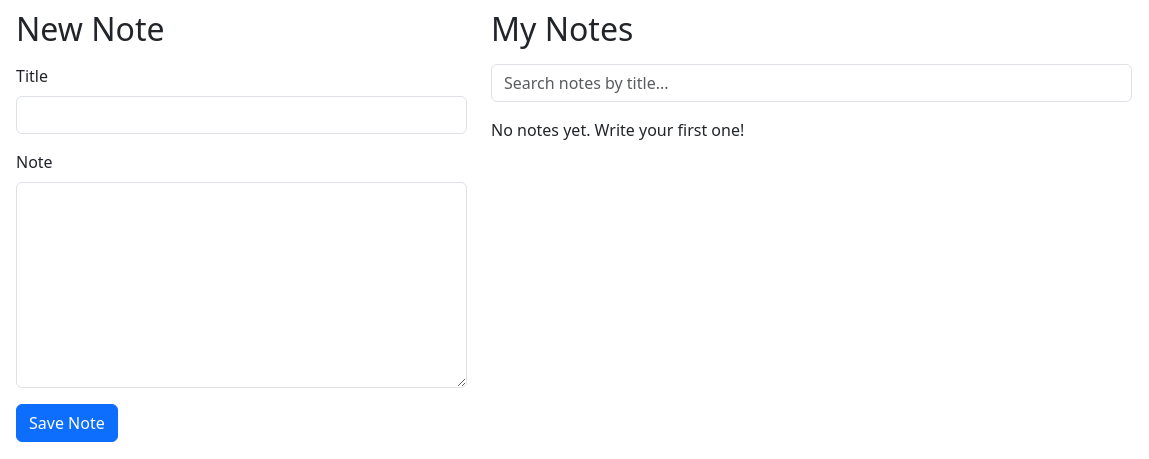
Test: cancel stops editing without changing the note
This screenshot has width=1149, height=459.
Type "Subnetting" into the field labelled "Title" at (242, 115), box [16,96,467,134]
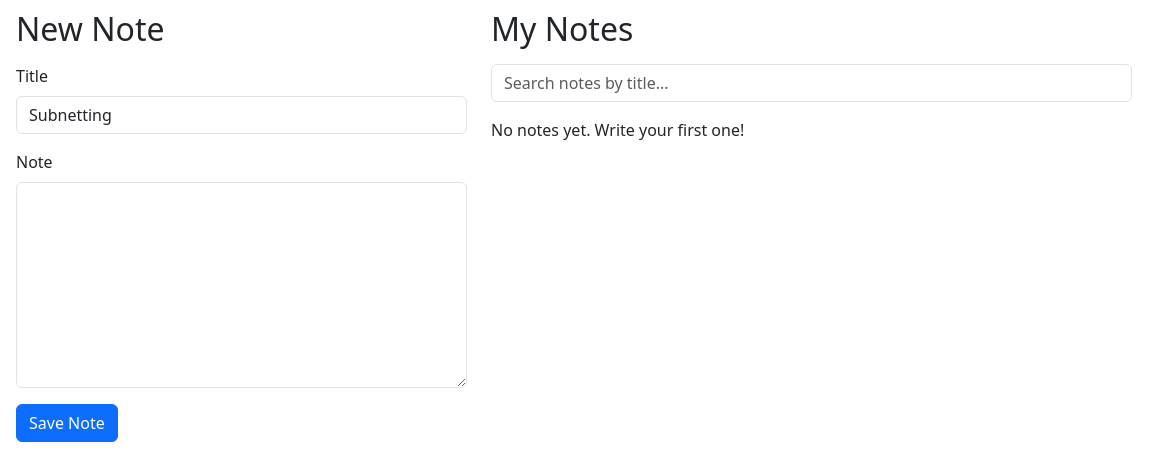
Type "A /24 network has 256 addresses" into the text box labelled "Note" at (242, 285), box [16,182,467,388]
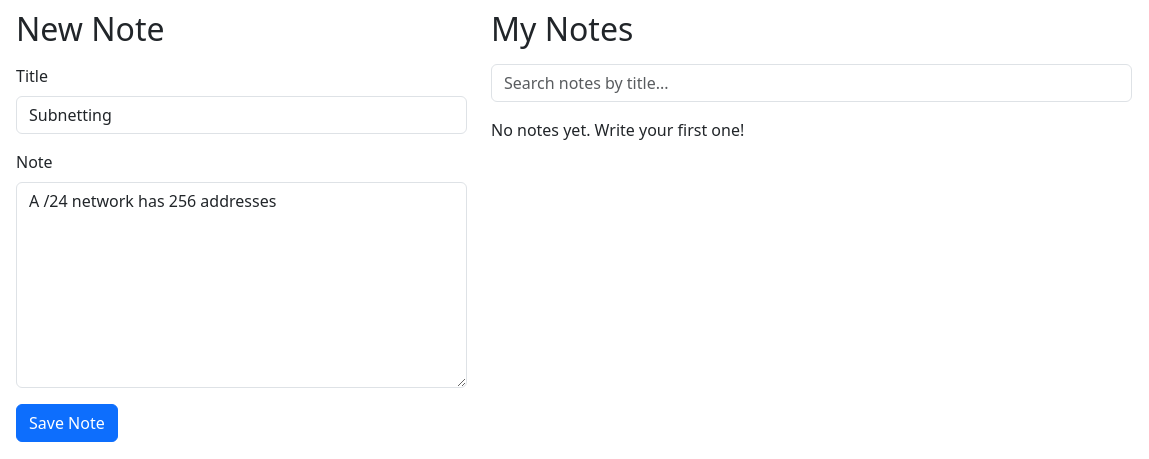
Click the button "Save Note" at (67, 423), box [16,404,118,442]
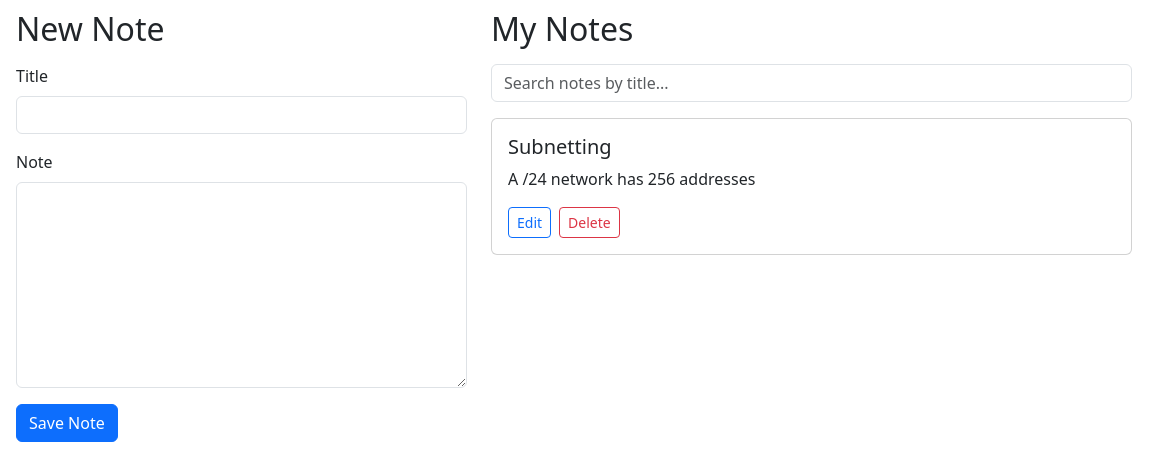
Click the button "Edit" at (530, 223), box [508,207,551,238]
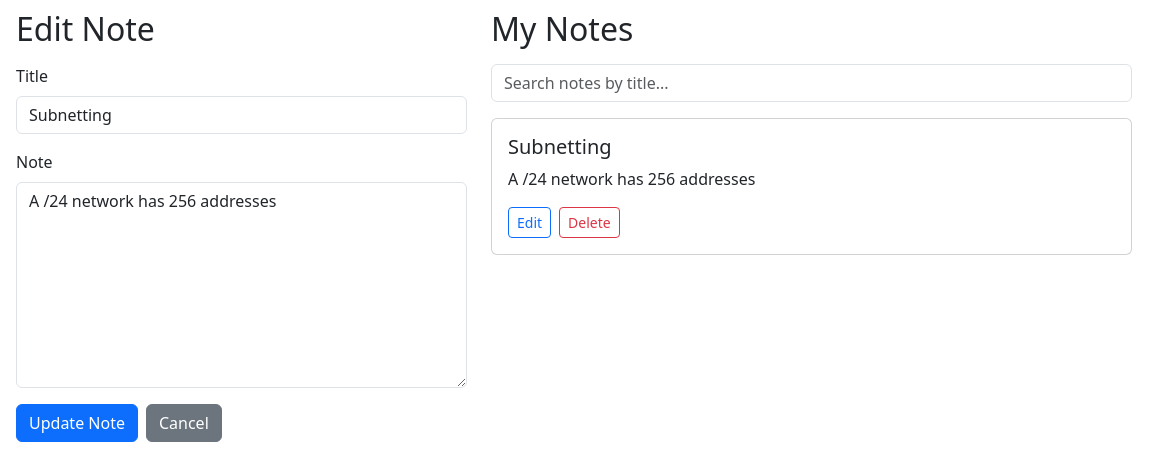
Replace the text in the field labelled "Title" with "something else" at (242, 115), box [16,96,467,134]
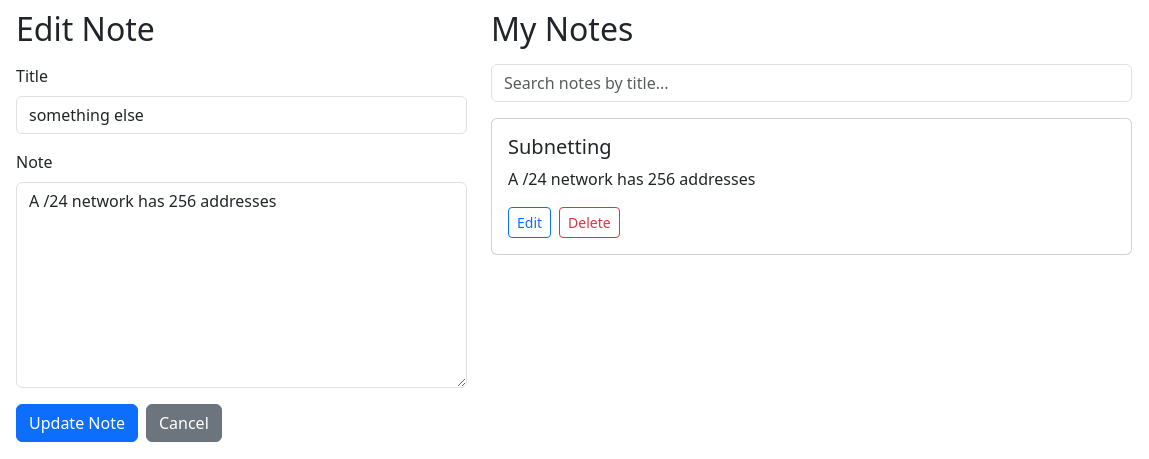
Click the button "Cancel" at (184, 423), box [146,404,222,442]
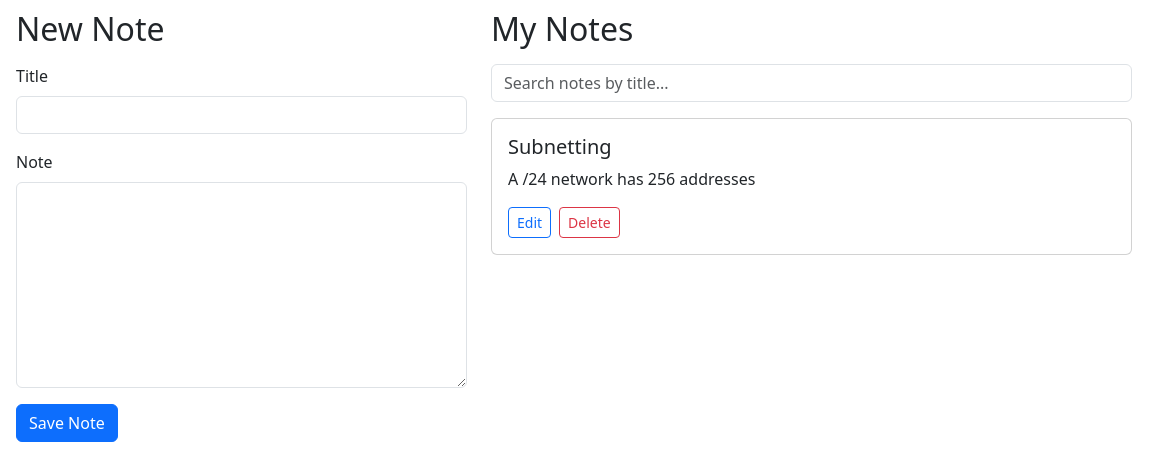
Expected: the heading "Subnetting" is shown, [508,133,612,160]
Expected: the field labelled "Title" is empty, [16,96,467,134]
